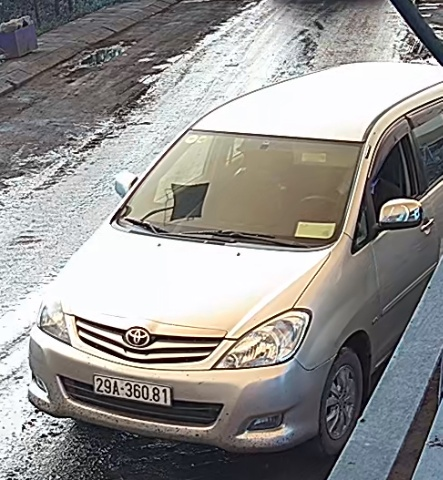vehicle plate: (90, 367, 176, 410)
